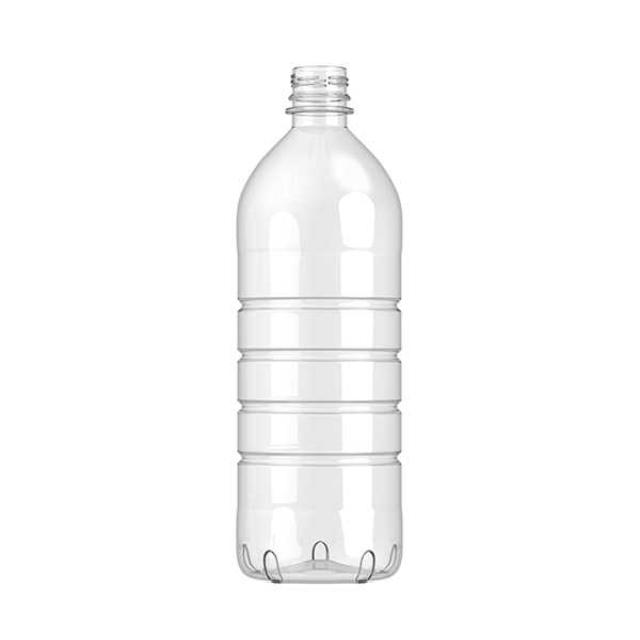bottom: (234, 514, 406, 582)
neck: (239, 63, 406, 216)
